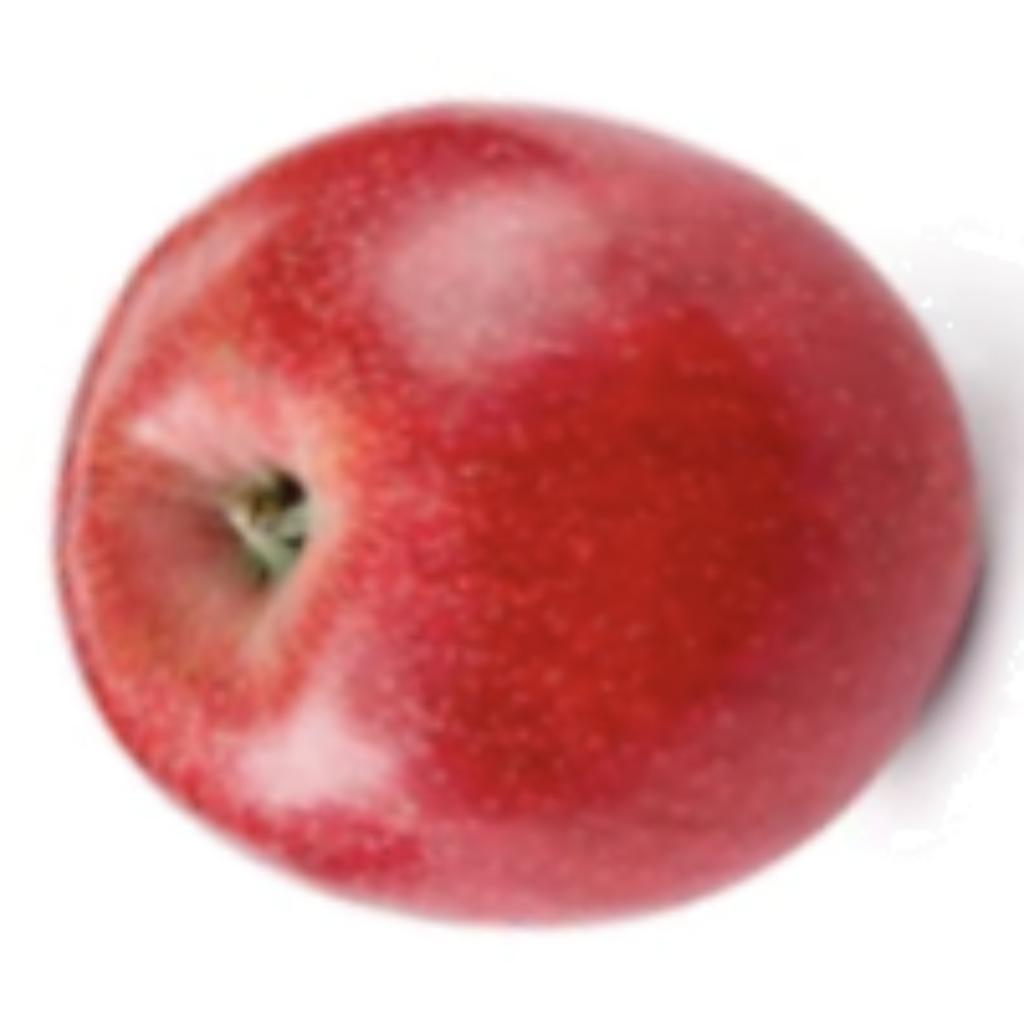apple: (36, 82, 1019, 942)
